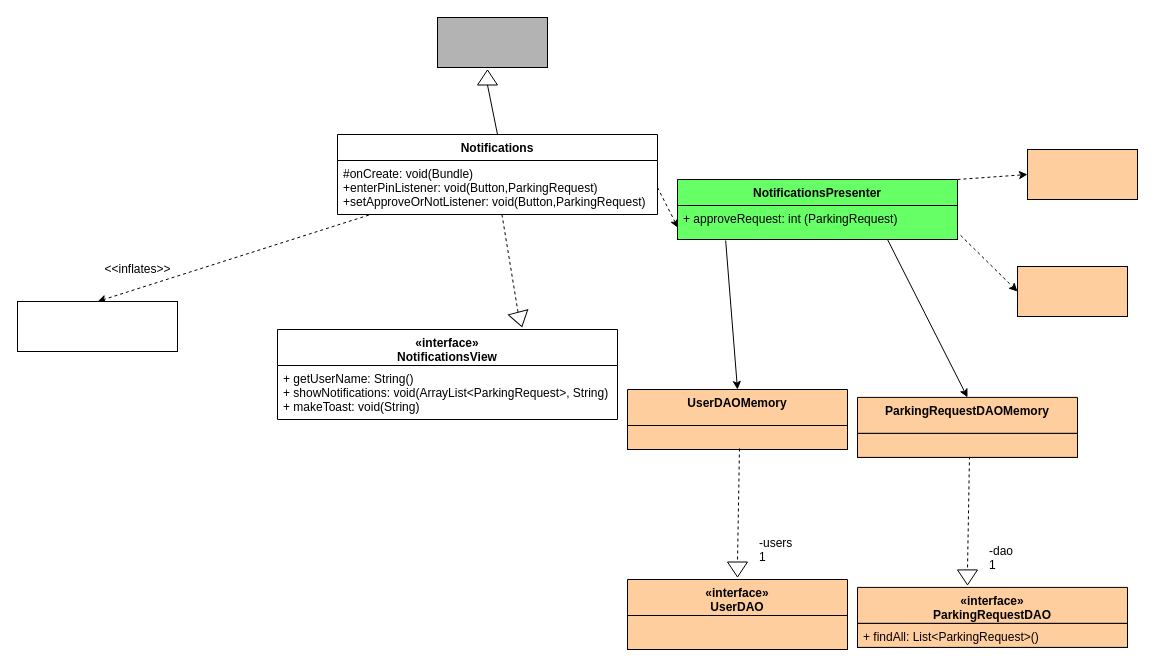
Some shapes in this 1155 by 670 pixel diagram are drawn without their labels. The centre of each missing label's shape, as x and y in pixels:
+ find: User(String): (737,632)
AppCompatActivity: (492,42)
ParkingRequest: (1072,291)
User: (1082,174)
«layout» activity_notifications.xml: (97,326)
